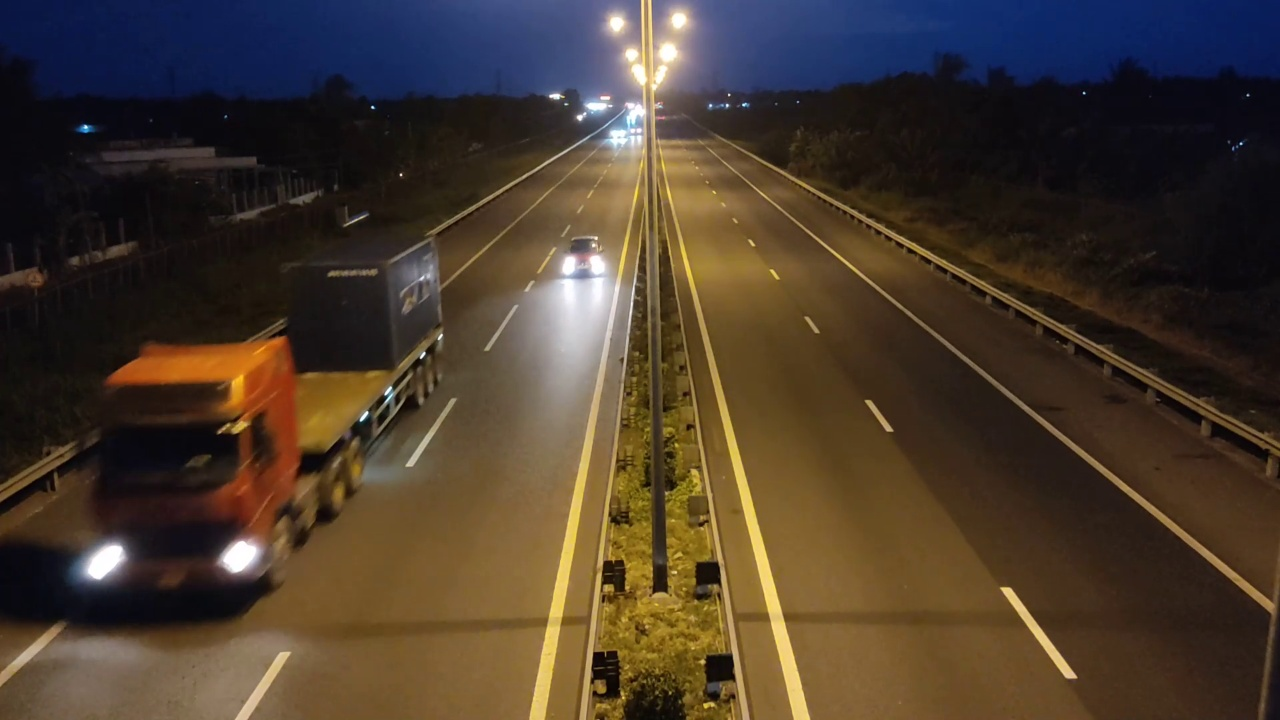car: (553, 225, 609, 281)
truck: (91, 225, 453, 604)
